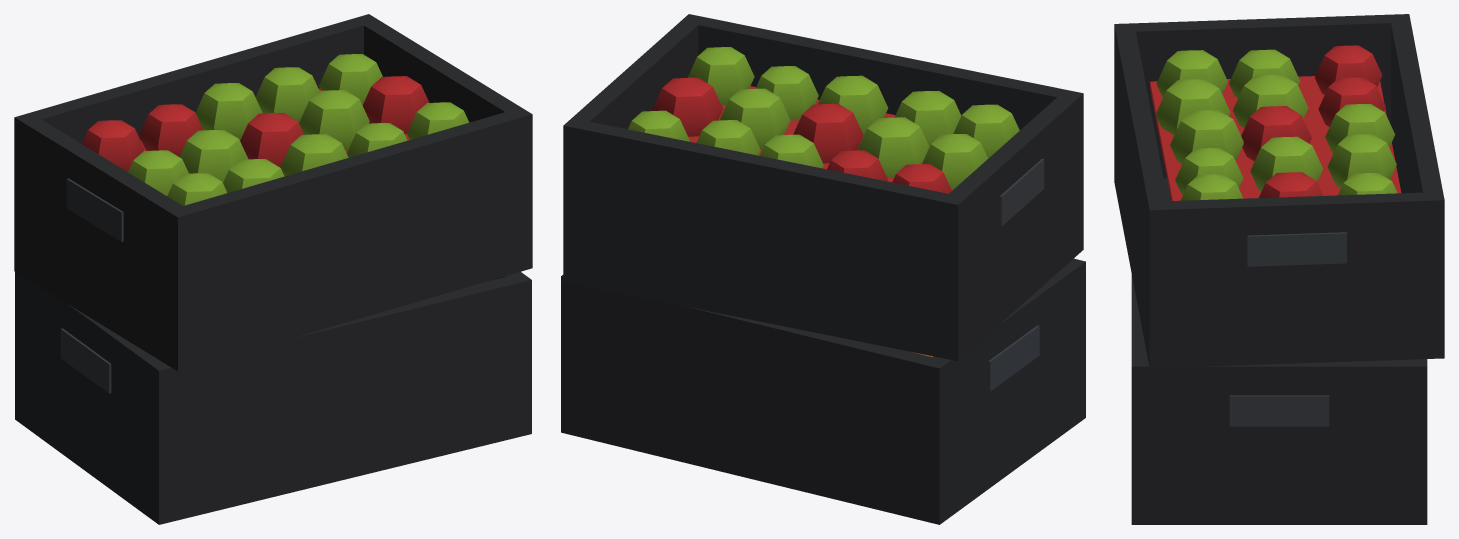
The model's file is crate_stack.glb.
The picture shows the model from 3 angles, left to right: view 1: azimuth 30°, elevation 25°; view 2: azimuth 150°, elevation 25°; view 3: azimuth 270°, elevation 25°; orthographic projection. The views are drawn at different scales.
Visible parts, largest first — view 1: crate_stack; view 2: crate_stack; view 3: crate_stack.
Part boxes in pixels (bbox=[...]): crate_stack: bbox=[14, 14, 532, 524]; crate_stack: bbox=[561, 14, 1085, 524]; crate_stack: bbox=[1114, 14, 1444, 524].
Size of the model in its own units: 2.79 by 2.18 by 1.99.
